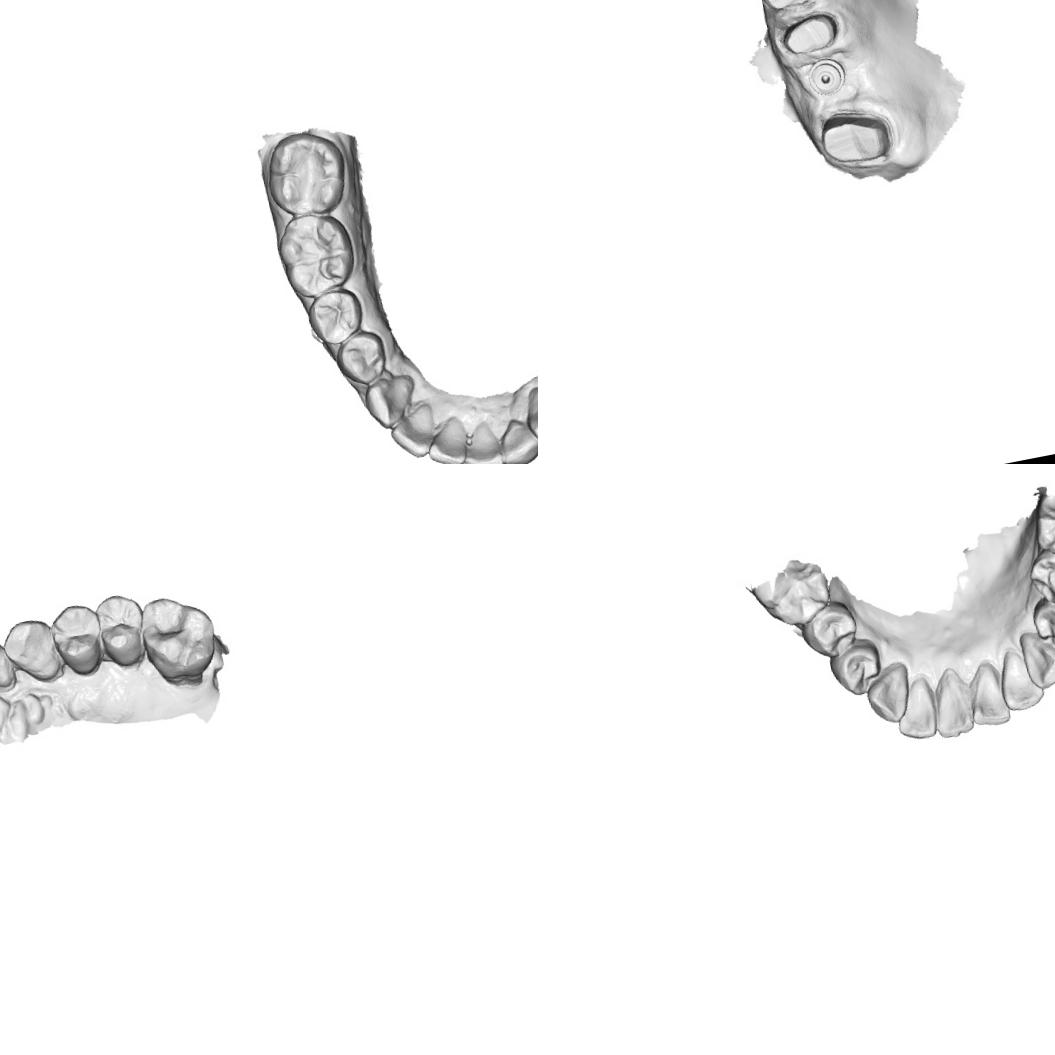canine: (0, 611, 65, 690), (860, 660, 918, 728), (360, 369, 422, 432), (1015, 623, 1055, 692), (521, 382, 538, 443)
crown: (810, 98, 904, 174), (775, 2, 848, 62), (753, 0, 832, 17)
implant: (803, 54, 850, 101)
incisor: (961, 659, 1015, 730), (888, 673, 942, 744), (992, 645, 1047, 714), (926, 673, 974, 741), (387, 411, 437, 462), (496, 417, 538, 464), (457, 424, 505, 464), (423, 423, 468, 464), (0, 633, 16, 694)
molar: (257, 123, 353, 223), (133, 586, 223, 690), (270, 205, 360, 302), (747, 552, 837, 635), (1026, 481, 1055, 570)
premolar: (45, 596, 109, 682), (90, 588, 152, 671), (796, 596, 863, 663), (824, 634, 887, 700), (303, 284, 367, 348), (330, 327, 390, 390), (1023, 542, 1055, 609), (1027, 589, 1055, 655)
